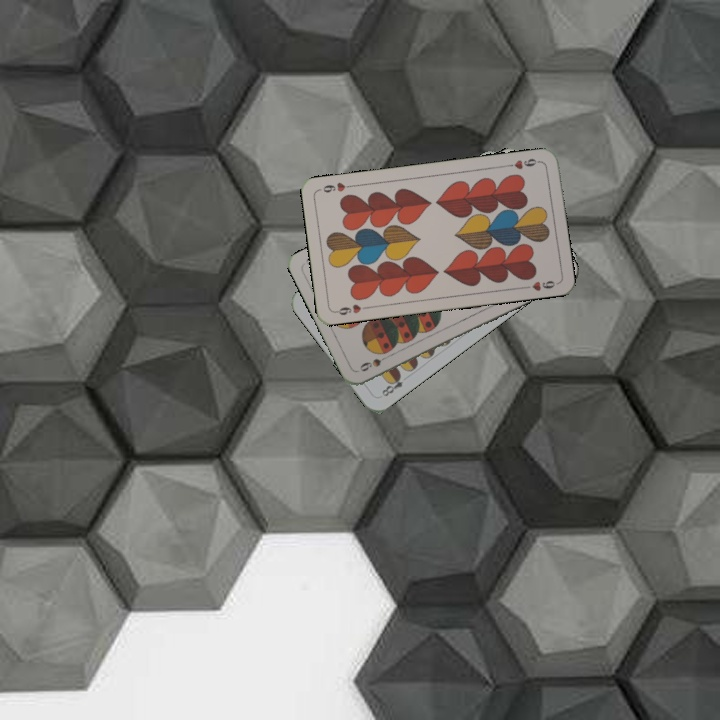E8: (378, 370, 411, 399)
H9: (331, 300, 372, 318), (503, 155, 543, 172)
S9: (356, 350, 393, 374)
